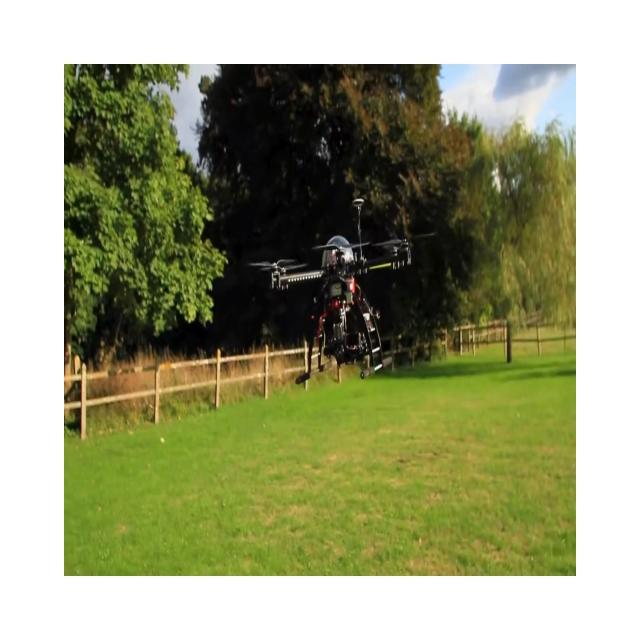drone: (246, 196, 436, 386)
